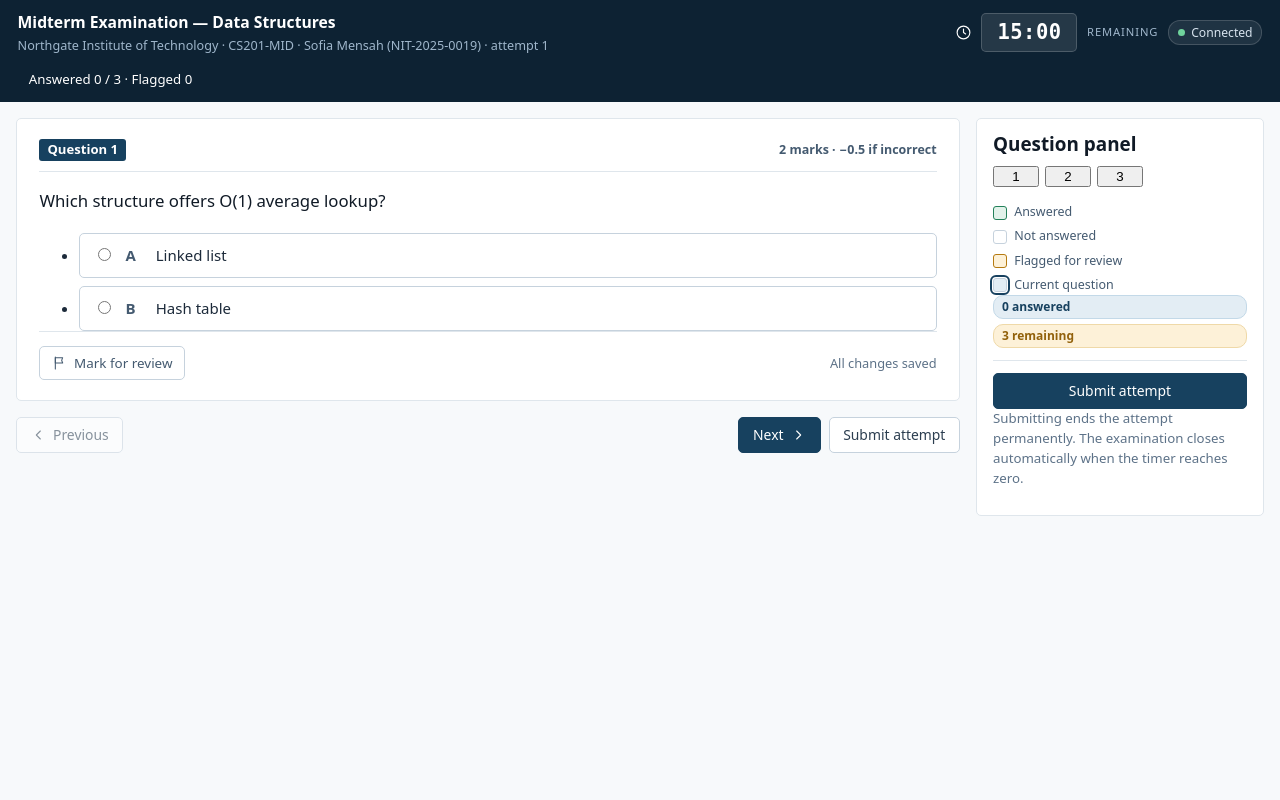
it: TakeAttemptPage › flags a question for review and records the flag server-side
Expected: the text "Which structure offers O(1) average lookup?" is shown, 39,189 -> 386,212
Click the button "Mark for review".
click(112, 363)  # box 39,346 -> 185,380
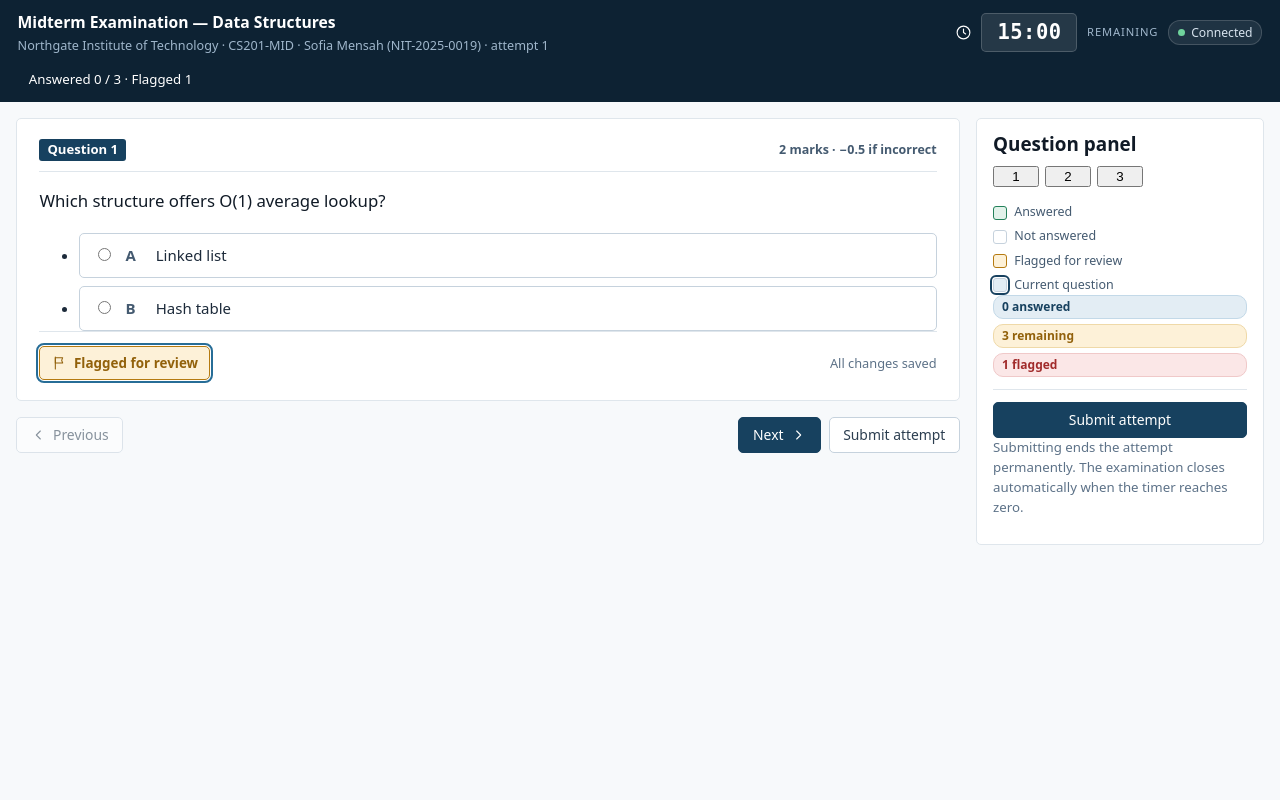
Result: the text "1 flagged" is shown at 993,353 -> 1247,377
